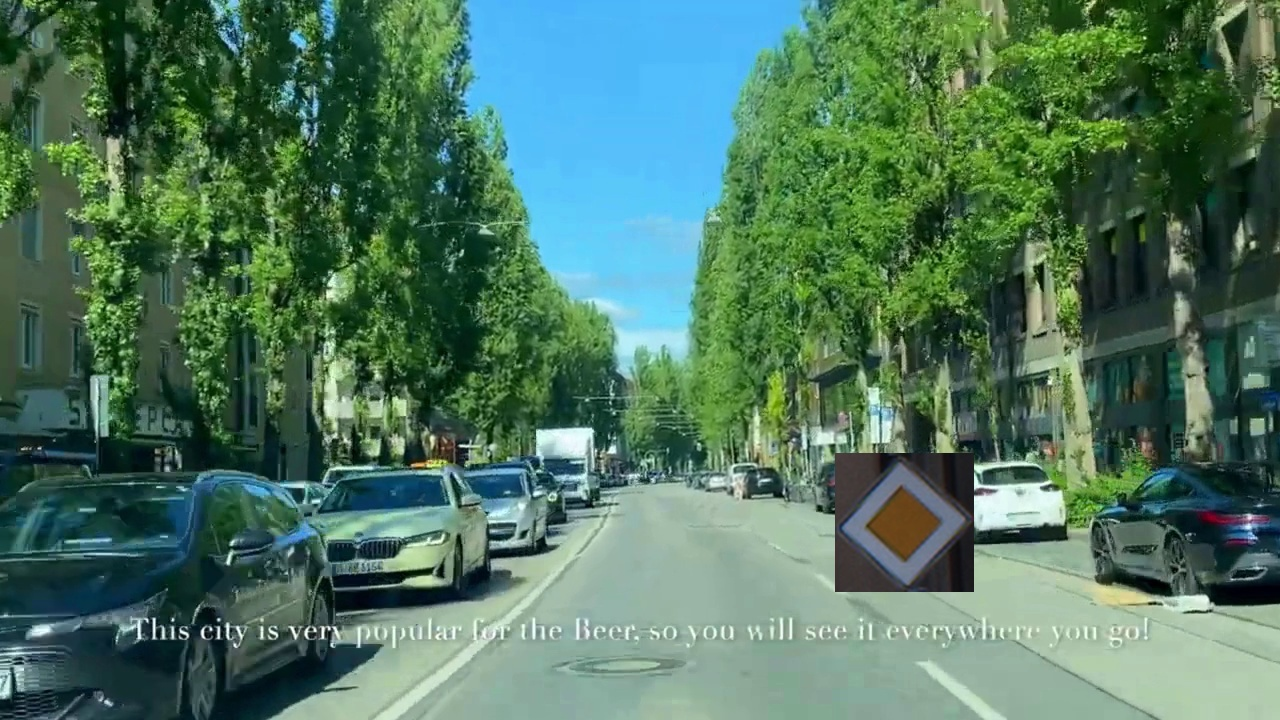Priority road: (835, 453, 974, 592)
